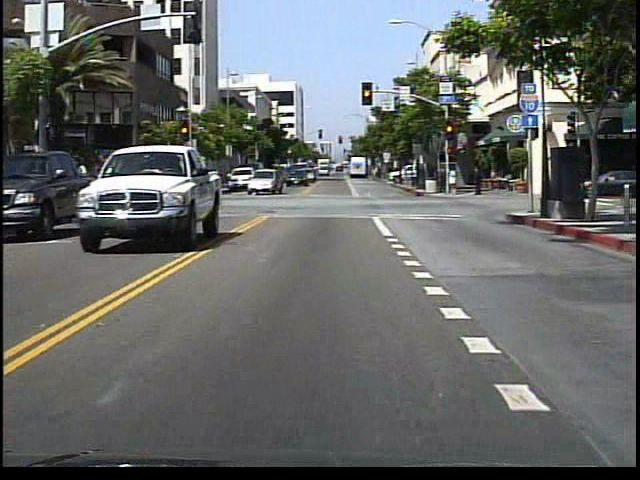person: (470, 165, 485, 199), (172, 168, 186, 197), (448, 165, 460, 197)
